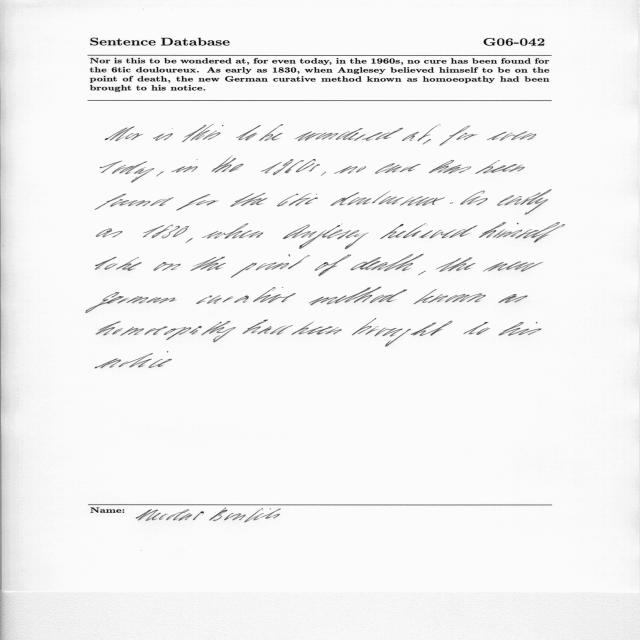word: (96, 321, 236, 342), (352, 318, 452, 347), (283, 224, 369, 250), (231, 254, 310, 278), (86, 292, 176, 313), (479, 222, 565, 243), (309, 287, 407, 305), (330, 191, 445, 206), (196, 287, 296, 304), (380, 223, 478, 239), (295, 128, 404, 141), (497, 190, 552, 215), (95, 193, 174, 210), (350, 254, 424, 271), (101, 161, 155, 183), (95, 353, 172, 368), (413, 289, 486, 304), (202, 223, 263, 239), (261, 159, 320, 175), (242, 319, 293, 335), (315, 255, 351, 277), (440, 126, 478, 146), (182, 125, 224, 143), (291, 321, 342, 335), (475, 160, 525, 174), (176, 194, 219, 210), (483, 261, 543, 272), (499, 322, 542, 336), (436, 257, 476, 272), (143, 225, 189, 238), (429, 160, 471, 174), (402, 126, 438, 142), (277, 193, 318, 207), (105, 126, 143, 141), (190, 256, 226, 271), (104, 257, 142, 271), (211, 157, 244, 173), (231, 193, 268, 207), (375, 163, 421, 174), (487, 131, 536, 141), (460, 191, 488, 206), (259, 124, 283, 141), (236, 125, 261, 141), (171, 159, 198, 173), (464, 322, 491, 335), (95, 257, 117, 270), (498, 294, 528, 303), (153, 128, 173, 141), (334, 166, 366, 174), (154, 262, 181, 271), (97, 229, 123, 238), (423, 139, 431, 145), (156, 171, 164, 177), (418, 271, 426, 276), (186, 238, 193, 243), (321, 172, 326, 176), (450, 202, 453, 204), (167, 352, 168, 353)
